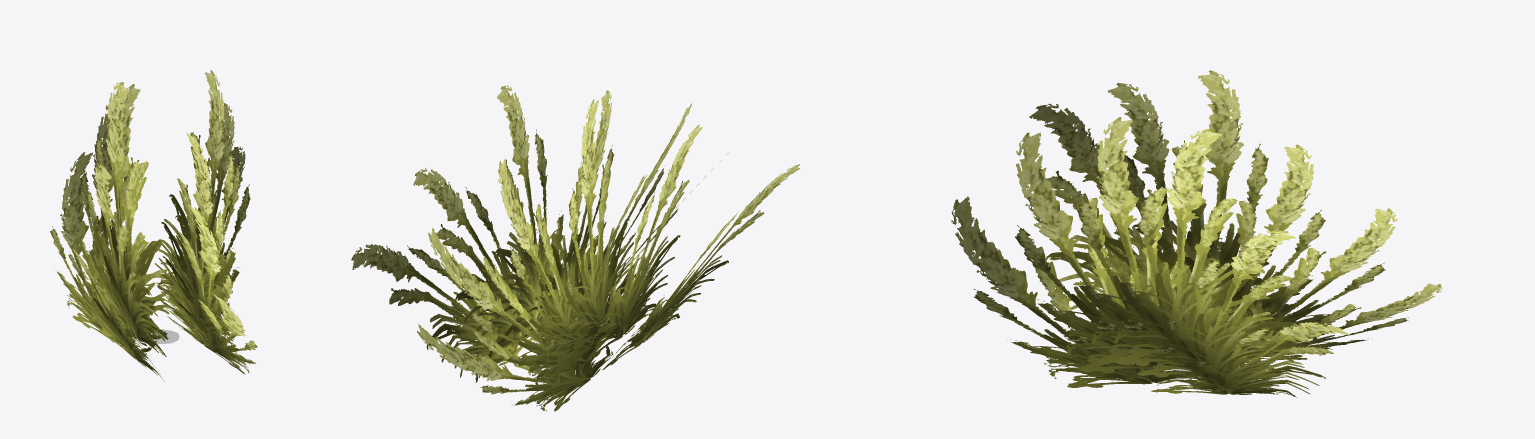
Rendered from Grass1.fbx.
The picture shows the model from 3 angles, left to right: view 1: azimuth 30°, elevation 25°; view 2: azimuth 150°, elevation 25°; view 3: azimuth 270°, elevation 25°; orthographic projection. The views are drawn at different scales.
Visible parts, largest first — view 1: img_2505_1; view 2: img_2505_1; view 3: img_2505_1.
Part boxes in pixels (x1=…): img_2505_1: x1=50, y1=70, x2=257, y2=381; img_2505_1: x1=351, y1=85, x2=799, y2=411; img_2505_1: x1=951, y1=70, x2=1442, y2=397.
Size of the model in its own units: 48.31 by 47.59 by 72.31.
1 material, 1 textured.
